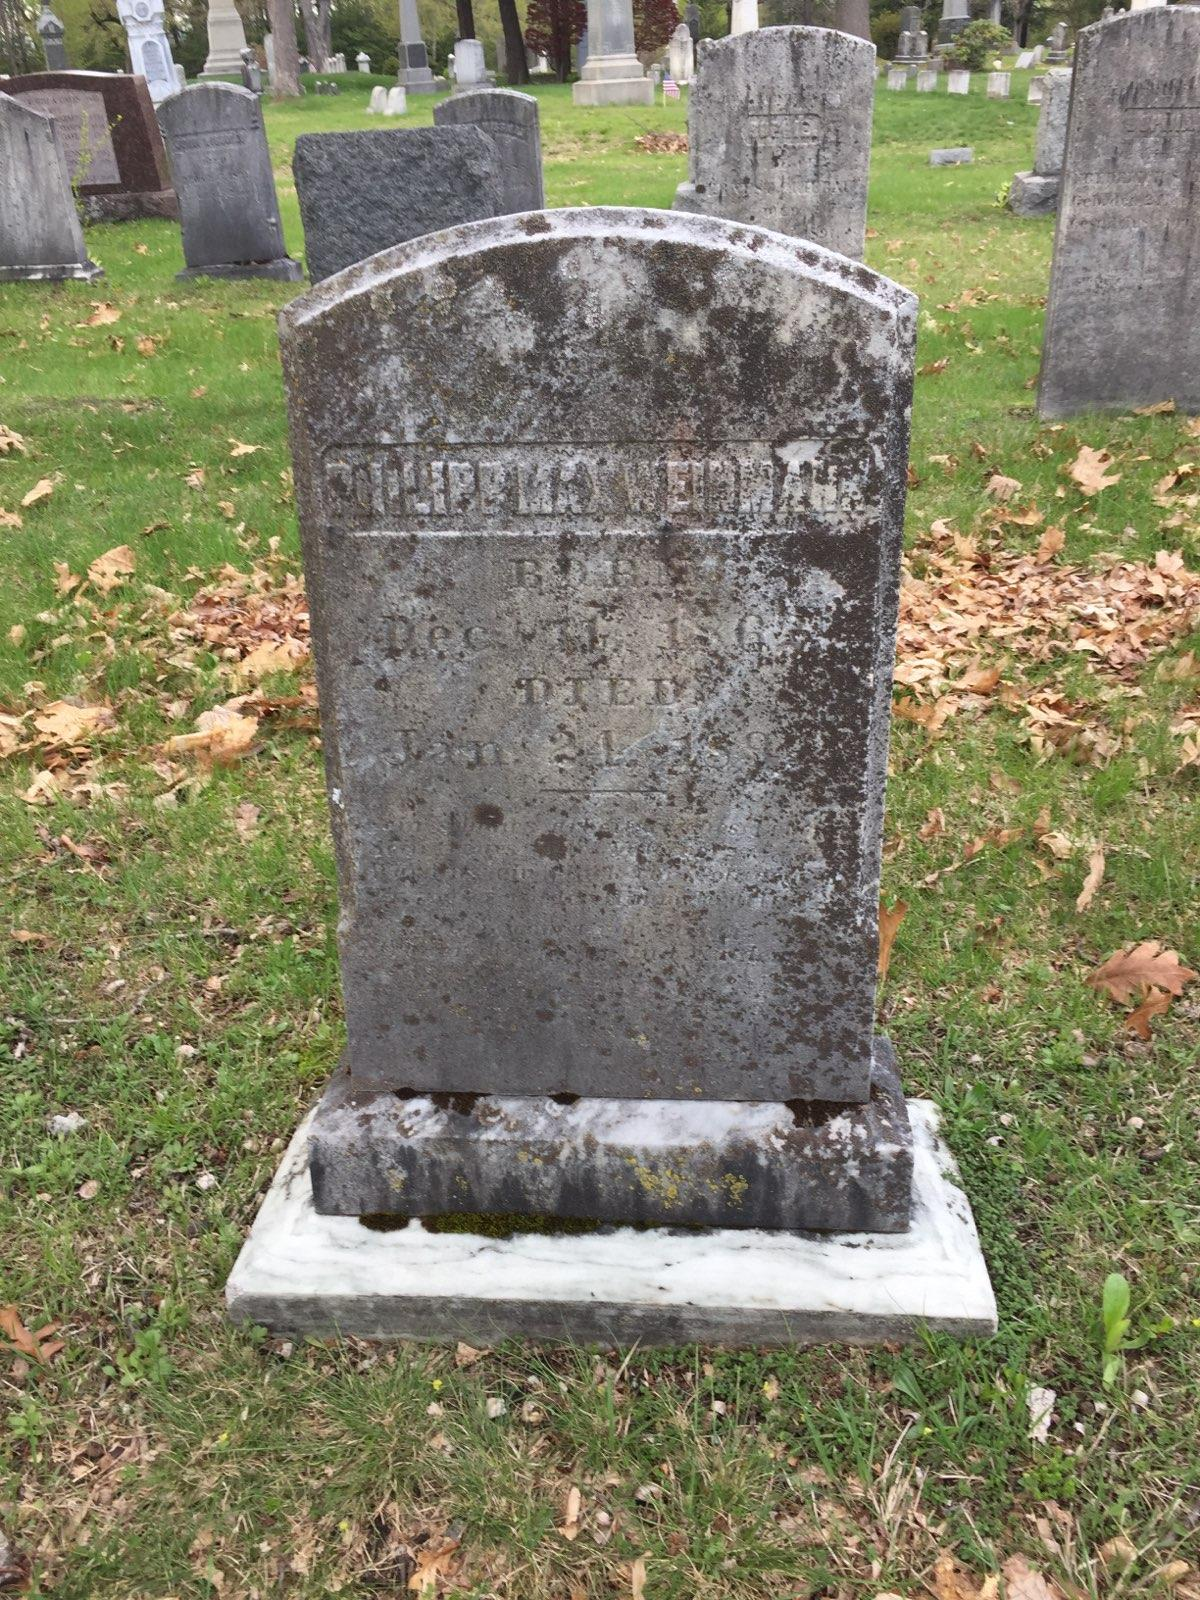upright: (281, 220, 921, 1105)
